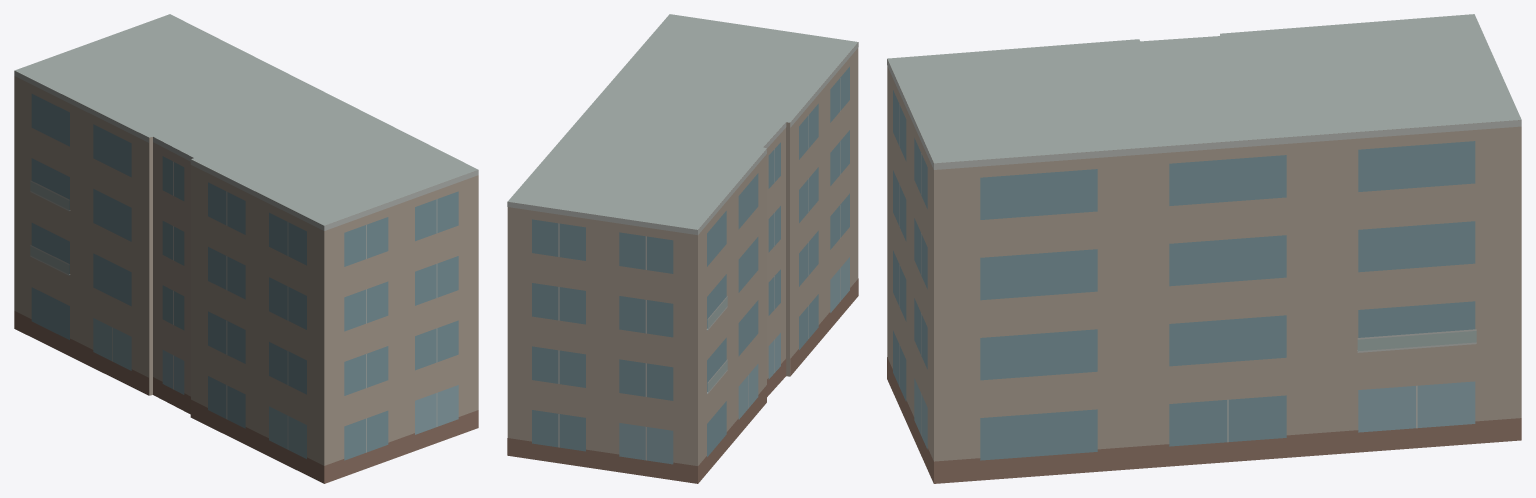
File: survey-upis-32696578.glb
3 views of the same model, side by side, from view 1: azimuth 30°, elevation 25°; view 2: azimuth 150°, elevation 25°; view 3: azimuth 270°, elevation 25° (orthographic). The views are drawn at different scales.
Parts seen in each view (by area): view 1: survey-upis-32696578.tmp; view 2: survey-upis-32696578.tmp; view 3: survey-upis-32696578.tmp.
Boxes of the visible parts, box(x1,y1,x2,y2) form: survey-upis-32696578.tmp: box(14, 14, 478, 483); survey-upis-32696578.tmp: box(507, 14, 858, 483); survey-upis-32696578.tmp: box(887, 14, 1521, 483).
Size of the model in its own units: 11.7 by 11.7 by 21.
